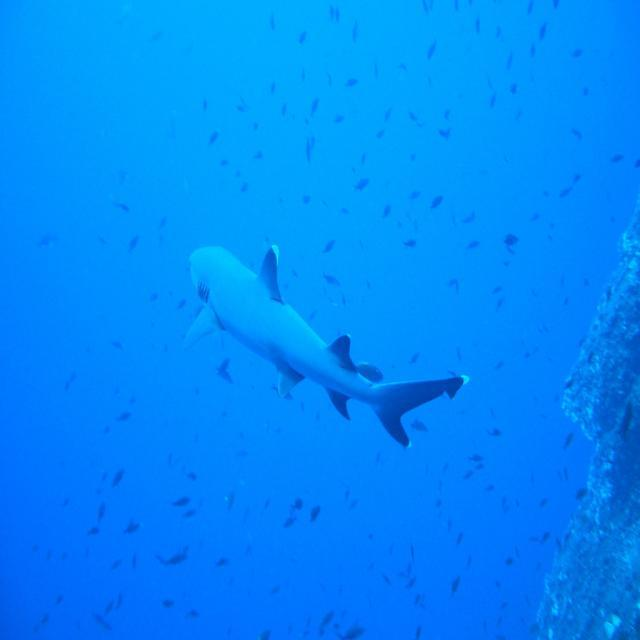Shark: (188, 244, 468, 447)
